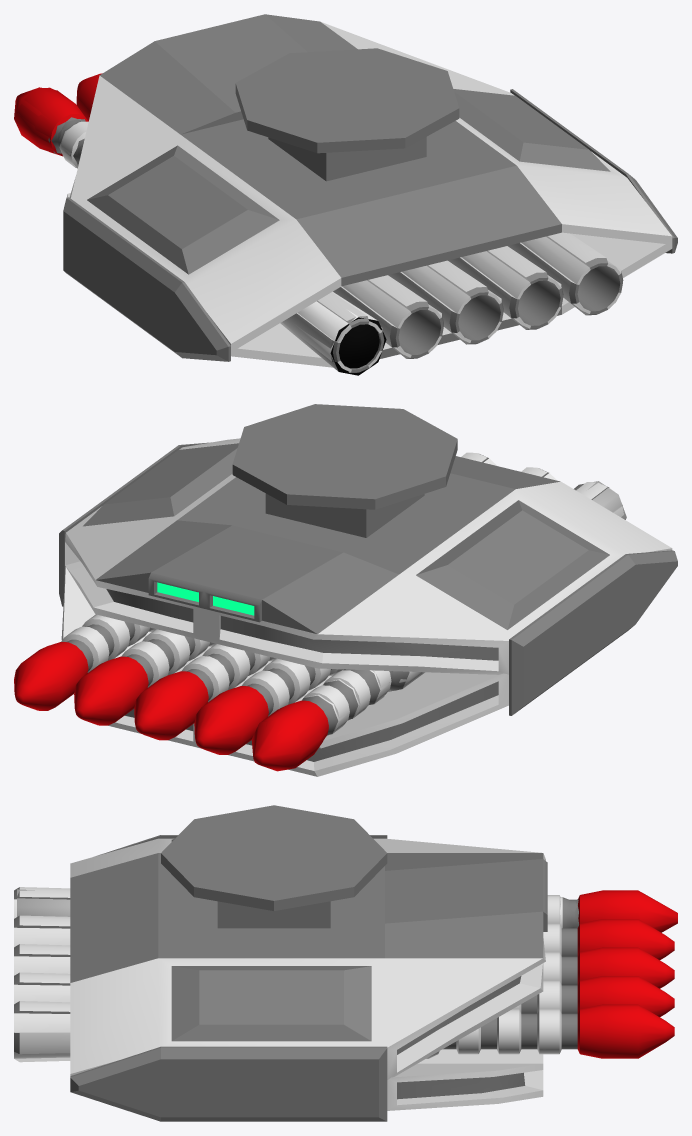
File: 1_RocketPod.fbx
3 renders of one model, top to bottom at view 1: azimuth 30°, elevation 25°; view 2: azimuth 150°, elevation 25°; view 3: azimuth 270°, elevation 25°, orthographic. The views are drawn at different scales.
Visible parts, largest first — view 1: MainRack, Mount, SideShields, Missiles.002, Missiles.001, Missiles.004, Missiles.003, Missiles.005, BottomRack, LowPoly_Missile; view 2: MainRack, Mount, SideShields, BottomRack, Missiles.002, Missiles.003, Missiles.004, Missiles.005, LowPoly_Missile, Missiles.001; view 3: MainRack, SideShields, Mount, Missiles.005, BottomRack, Missiles.004, Missiles.003, Missiles.002, Missiles.001, LowPoly_Missile.
Boxes of the visible parts, bbox=[...] form: MainRack: bbox=[69, 14, 672, 352]; Mount: bbox=[235, 48, 459, 181]; SideShields: bbox=[63, 89, 677, 361]; Missiles.002: bbox=[76, 73, 443, 358]; Missiles.001: bbox=[17, 87, 384, 372]; Missiles.004: bbox=[448, 246, 563, 329]; Missiles.003: bbox=[388, 260, 503, 344]; Missiles.005: bbox=[508, 232, 623, 315]; BottomRack: bbox=[66, 193, 672, 367]; LowPoly_Missile: bbox=[14, 87, 386, 375]; MainRack: bbox=[65, 438, 672, 674]; Mount: bbox=[232, 404, 457, 537]; SideShields: bbox=[59, 442, 677, 715]; BottomRack: bbox=[61, 567, 508, 776]; Missiles.002: bbox=[194, 467, 556, 754]; Missiles.003: bbox=[134, 452, 496, 740]; Missiles.004: bbox=[74, 629, 215, 725]; Missiles.005: bbox=[14, 614, 155, 710]; LowPoly_Missile: bbox=[251, 481, 626, 771]; Missiles.001: bbox=[262, 482, 623, 760]; MainRack: bbox=[70, 838, 547, 1079]; SideShields: bbox=[70, 835, 387, 1121]; Mount: bbox=[161, 805, 387, 928]; Missiles.005: bbox=[14, 1001, 674, 1062]; BottomRack: bbox=[387, 1049, 543, 1110]; Missiles.004: bbox=[14, 972, 674, 1016]; Missiles.003: bbox=[14, 944, 674, 988]; Missiles.002: bbox=[14, 915, 674, 959]; Missiles.001: bbox=[14, 887, 652, 924]; LowPoly_Missile: bbox=[17, 889, 677, 932].
Size of the model in its own units: 460 by 195 by 586.
